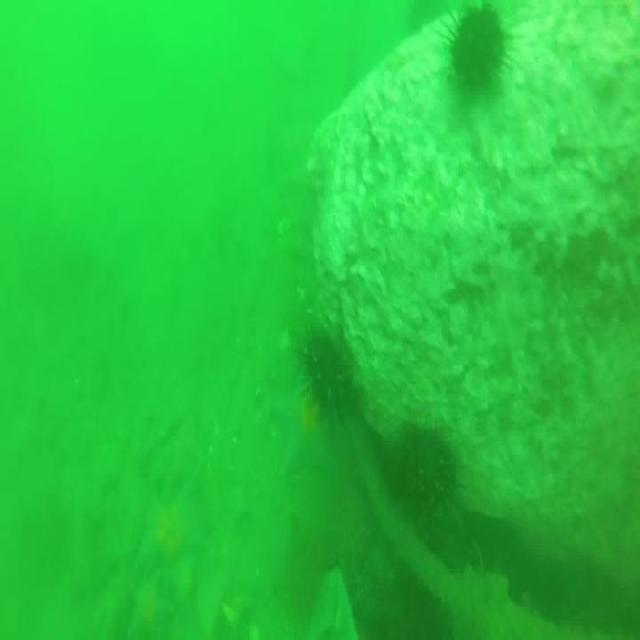echinus: (431, 3, 525, 101), (382, 428, 458, 539), (294, 330, 354, 435)
scallop: (278, 216, 291, 234)
starfish: (261, 370, 352, 472), (135, 477, 204, 594)
